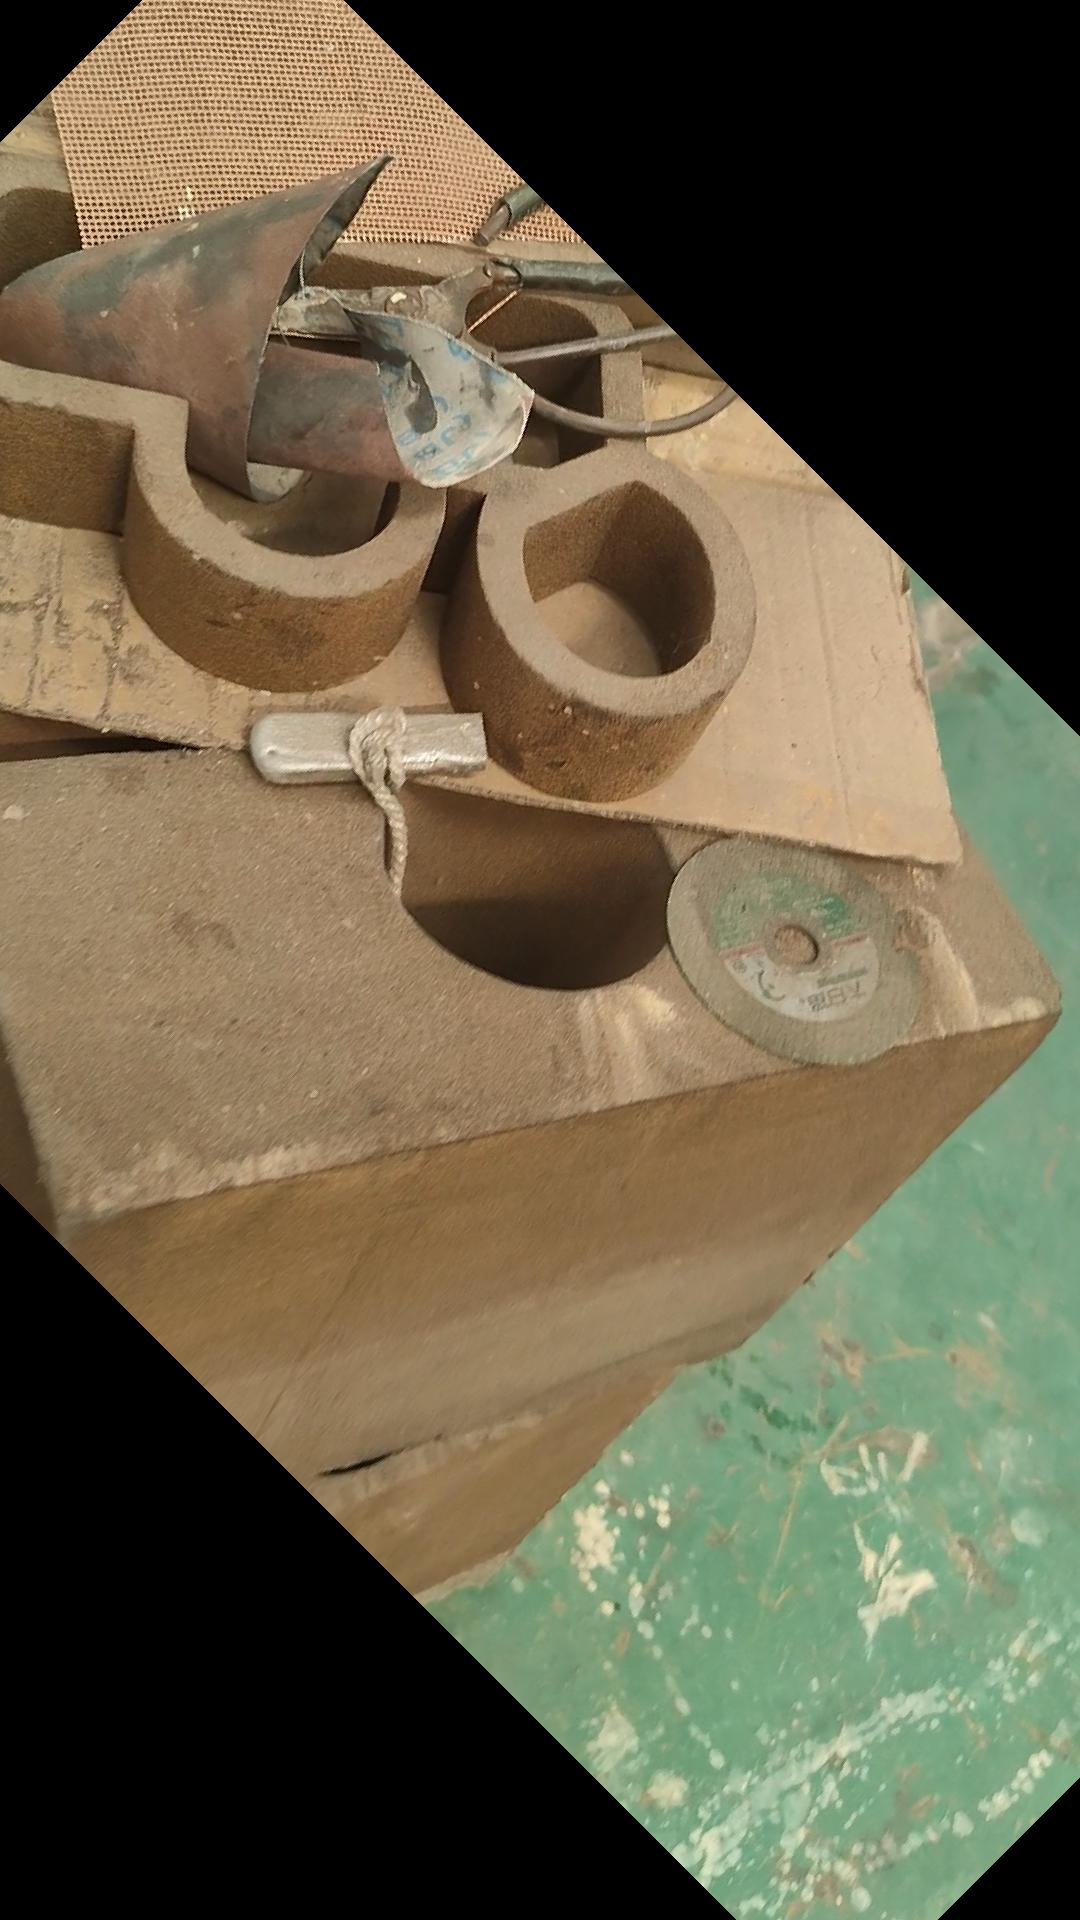pouring hole: (382, 744, 679, 993)
